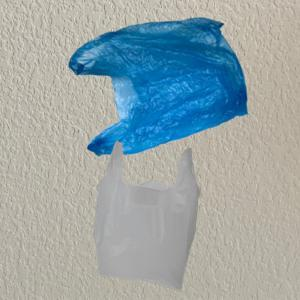plastic_bag: (67, 17, 251, 159), (91, 139, 203, 292)
